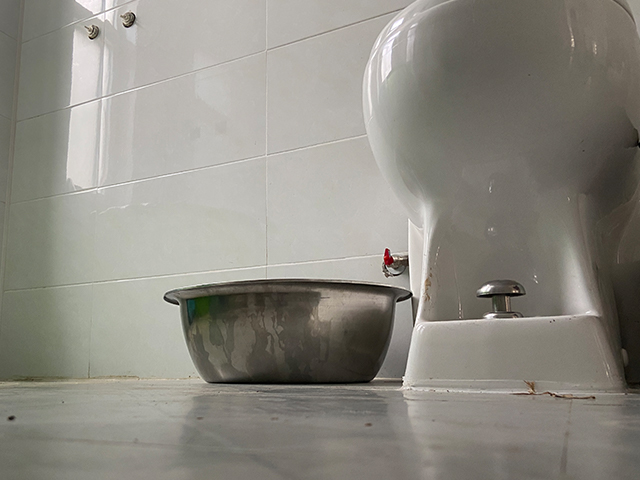closestool: (361, 1, 639, 399)
